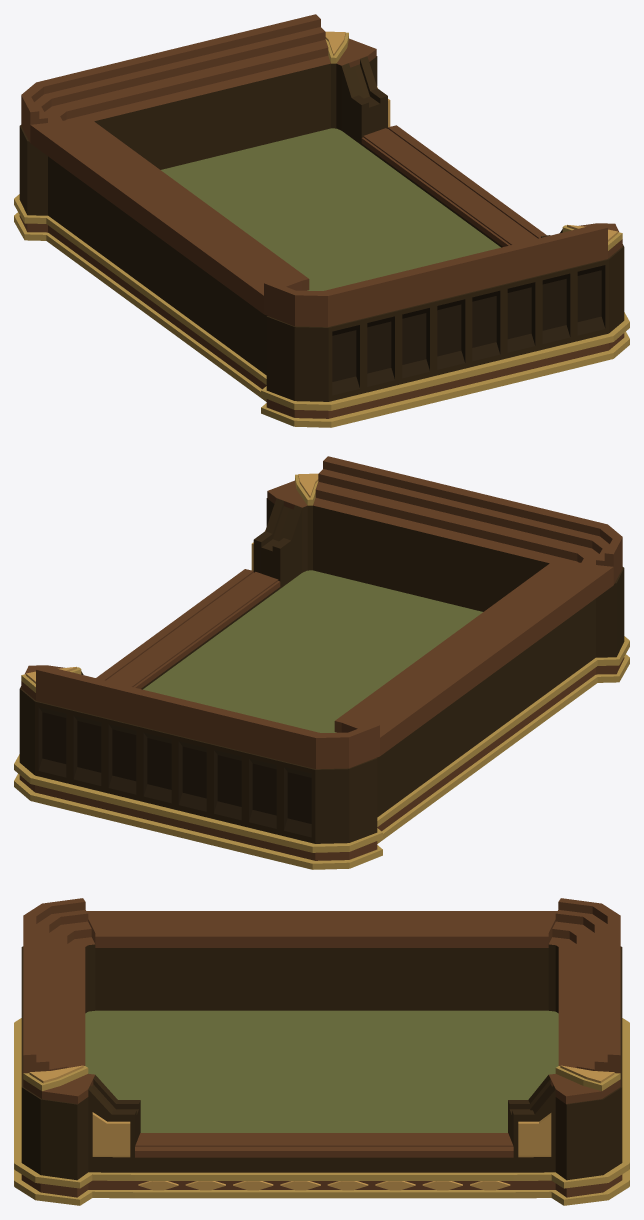
The model's file is Mesa.glb.
3 views of the same model, one above another, from view 1: azimuth 30°, elevation 25°; view 2: azimuth 150°, elevation 25°; view 3: azimuth 270°, elevation 25° (orthographic). The views are drawn at different scales.
Visible parts, largest first — view 1: Mesa_v2; view 2: Mesa_v2; view 3: Mesa_v2.
Part boxes in pixels (box(x1,y1,x2,y2)): Mesa_v2: box(14, 14, 629, 427); Mesa_v2: box(14, 456, 629, 869); Mesa_v2: box(14, 898, 629, 1205).
Size of the model in its own units: 19.19 by 6.56 by 27.93.
